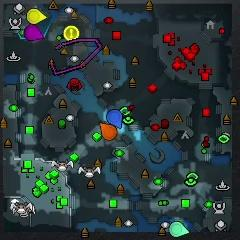Other: (63, 26, 80, 41)
p1: (107, 109, 123, 129)
p2: (169, 222, 190, 237)
p3: (25, 25, 44, 41)
p4: (27, 8, 47, 24)
p5: (100, 122, 117, 140)
